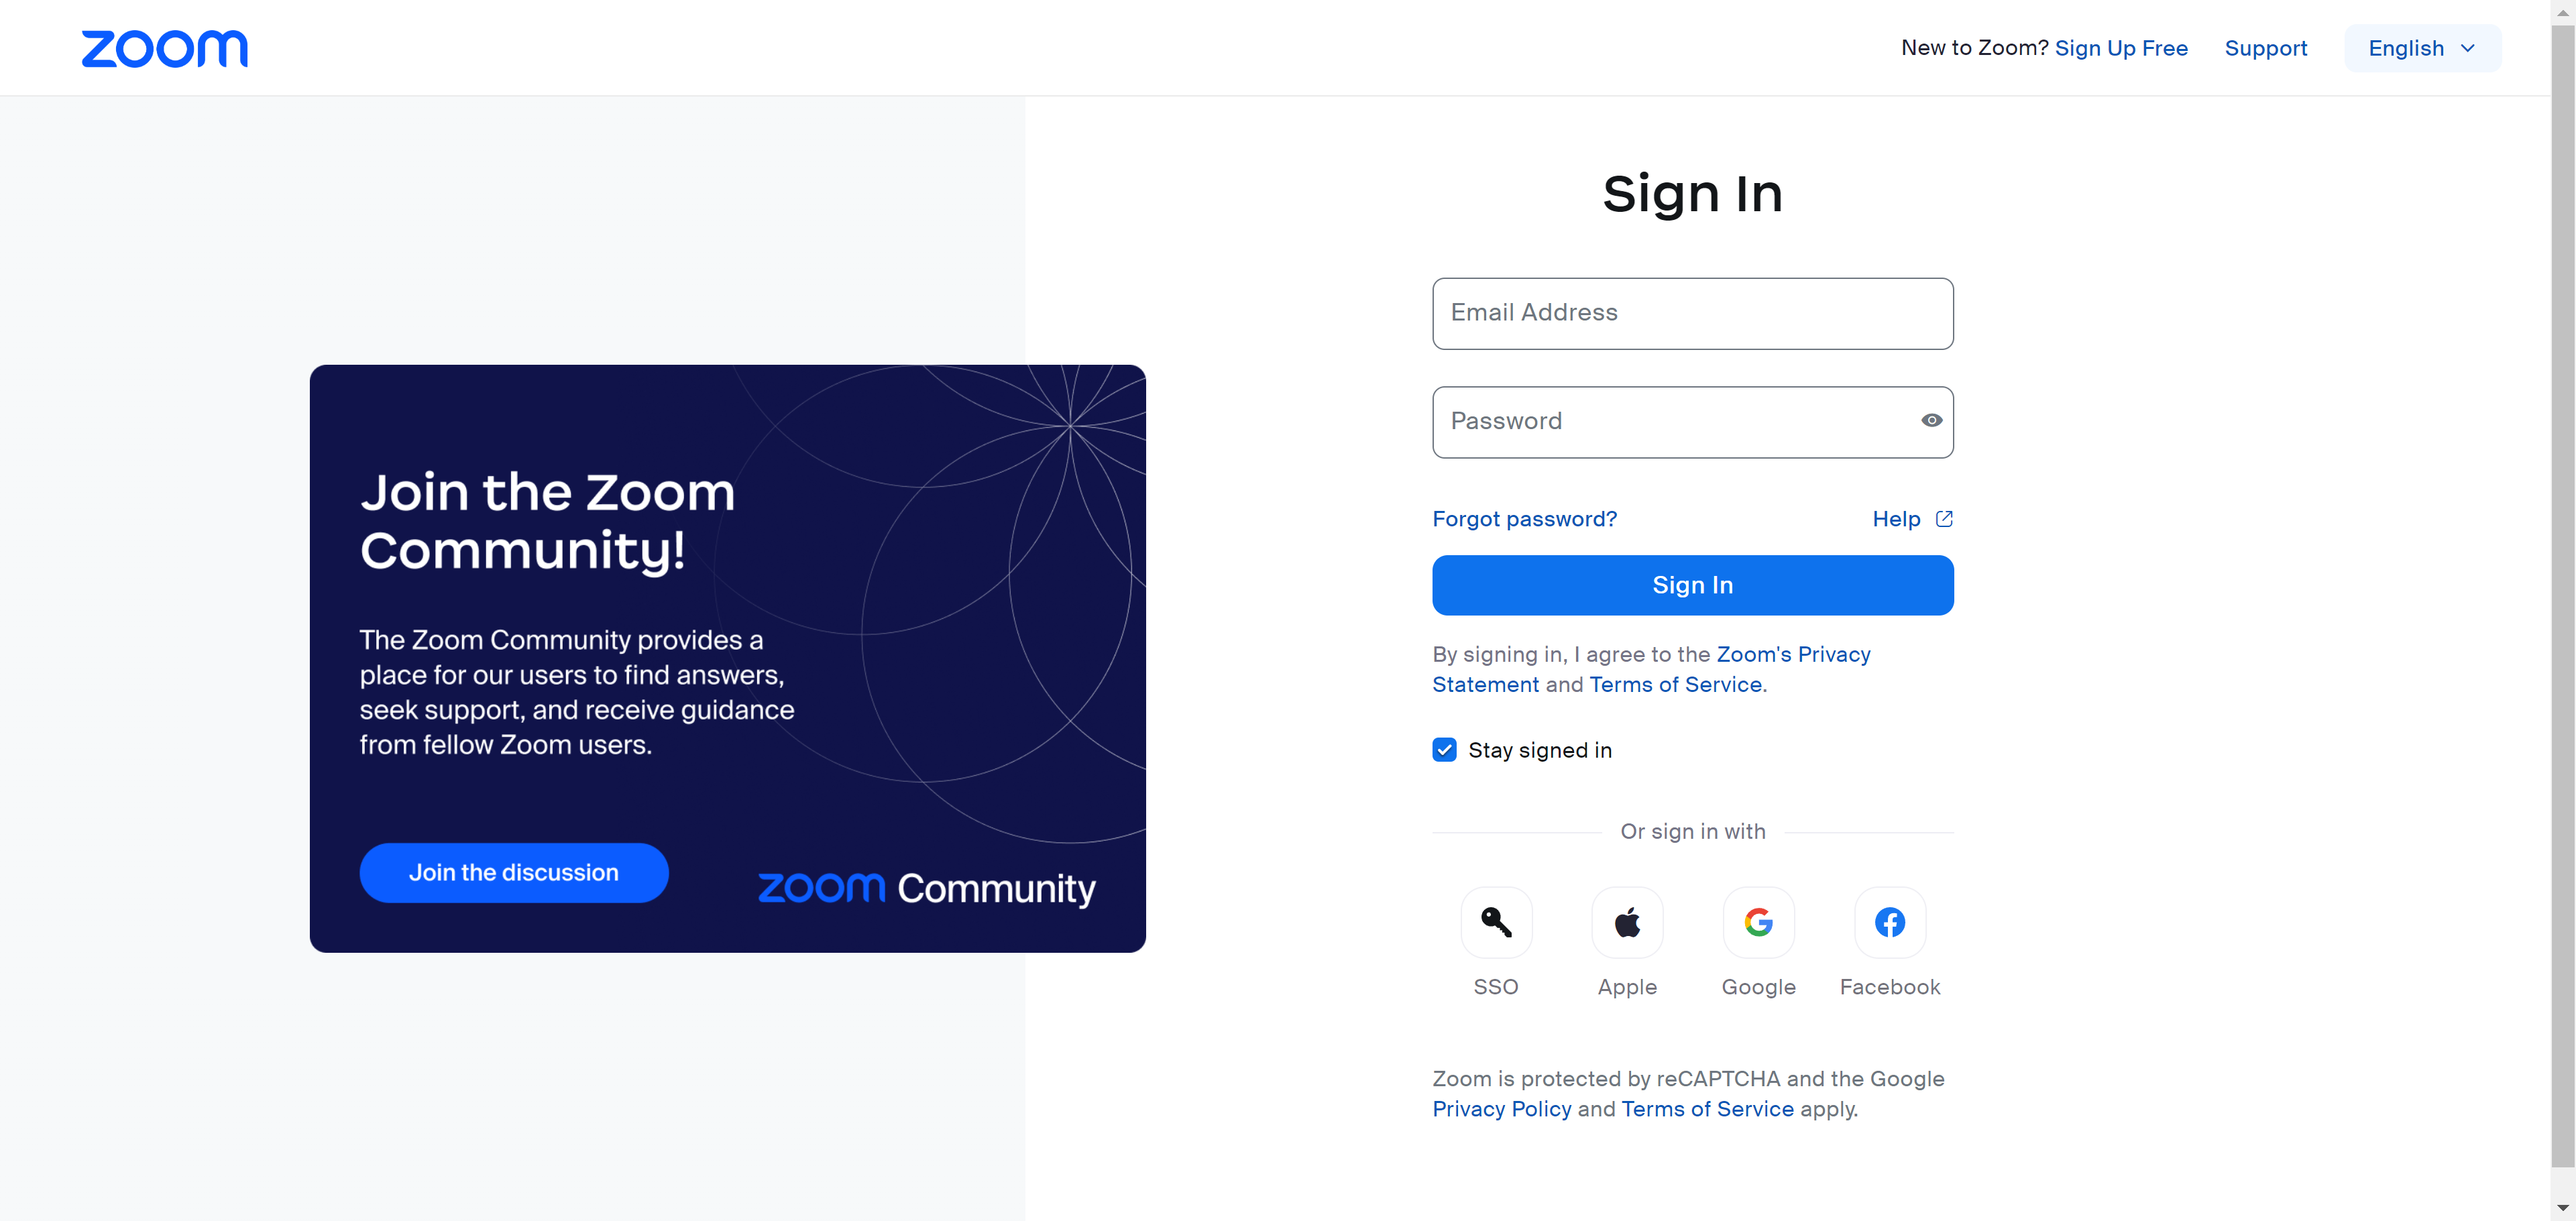login_button: (1433, 554, 1955, 616)
login_form: (1426, 273, 1962, 621)
